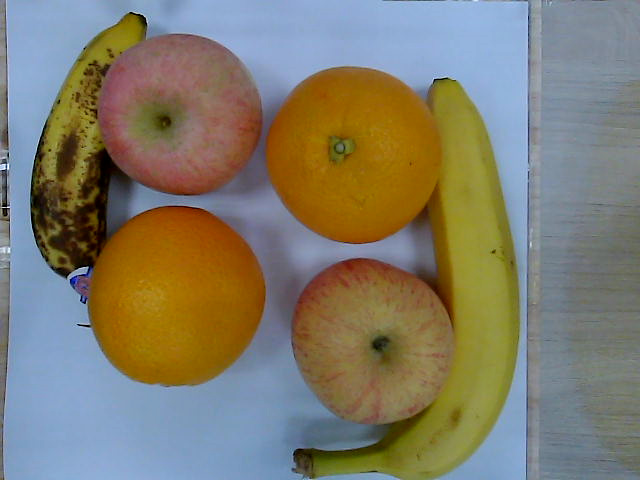fresh_apple: (293, 259, 454, 424), (101, 32, 260, 198)
fresh_banana: (376, 79, 522, 480)
fresh_orange: (87, 205, 266, 387), (267, 67, 441, 244)
rotten_banana: (32, 11, 148, 295)
